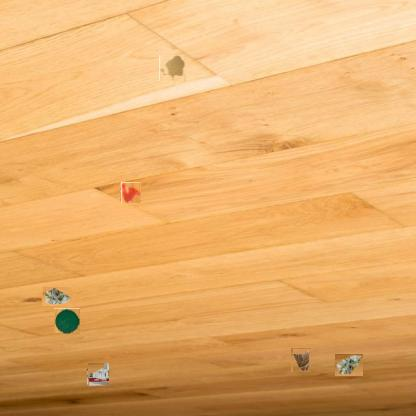dirty: (55, 308, 80, 334), (335, 354, 363, 376), (42, 286, 72, 306), (87, 362, 109, 386), (292, 348, 312, 372)
liquid: (160, 55, 186, 82), (120, 182, 141, 203)
